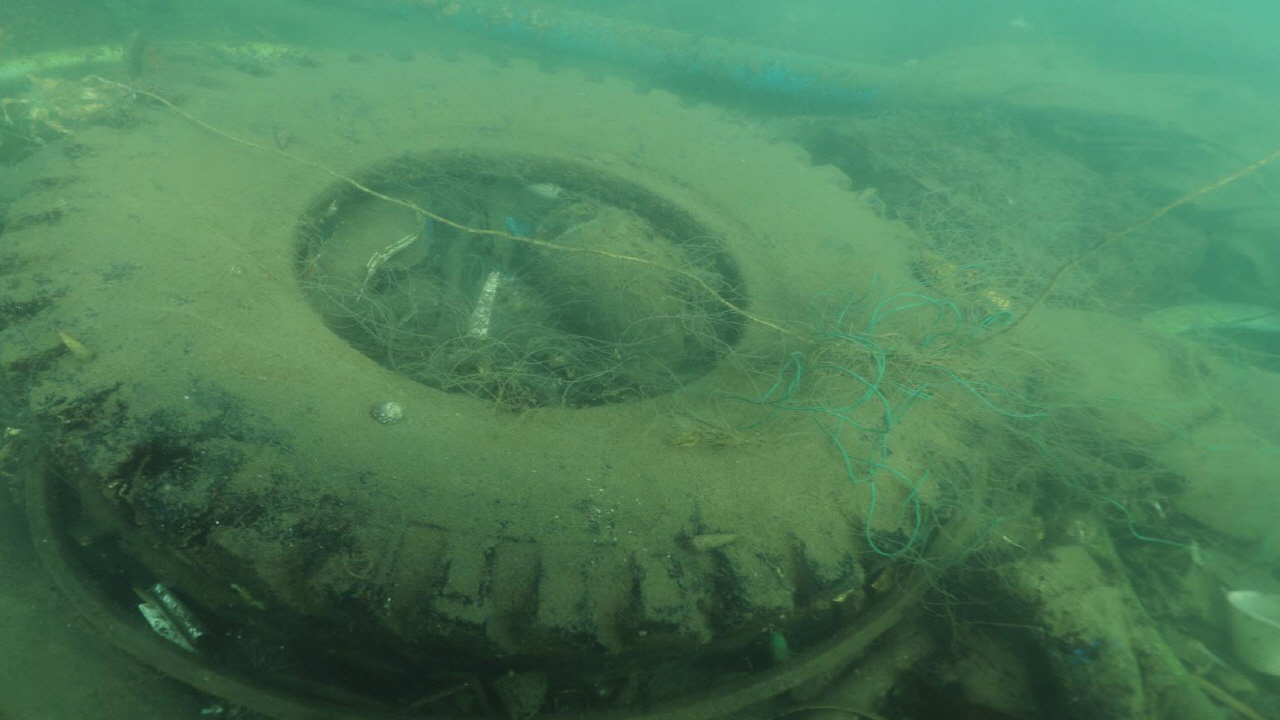tire: (0, 47, 949, 718)
